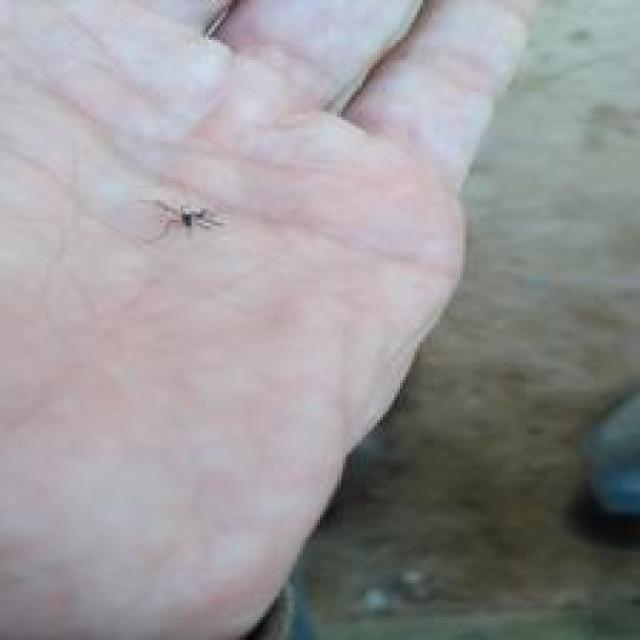Aedes albopictus: (147, 197, 224, 243)
